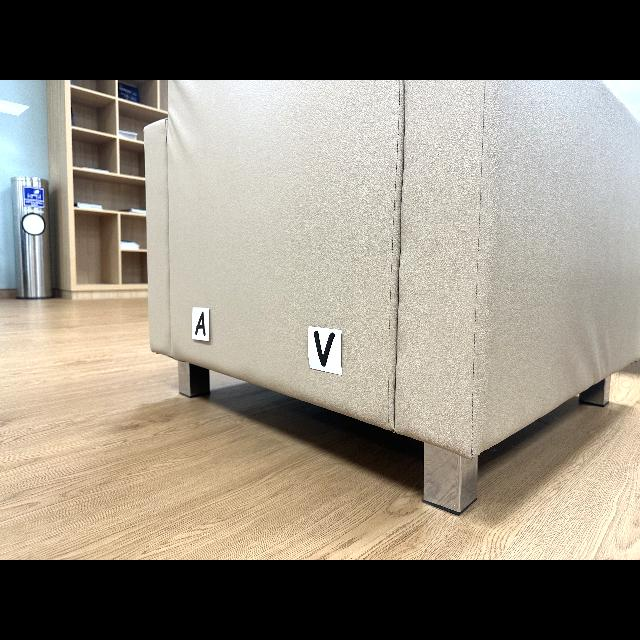A: (195, 311, 206, 336)
V: (314, 330, 335, 366)
